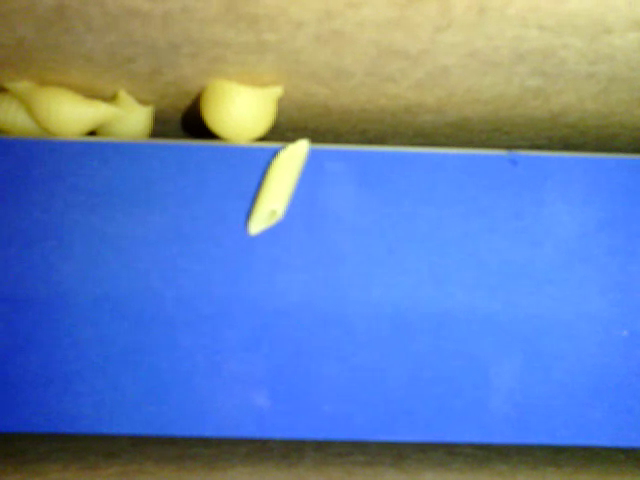penne: (243, 135, 309, 238)
shell: (1, 78, 130, 143), (202, 79, 289, 143), (93, 94, 155, 143), (1, 95, 55, 146)
